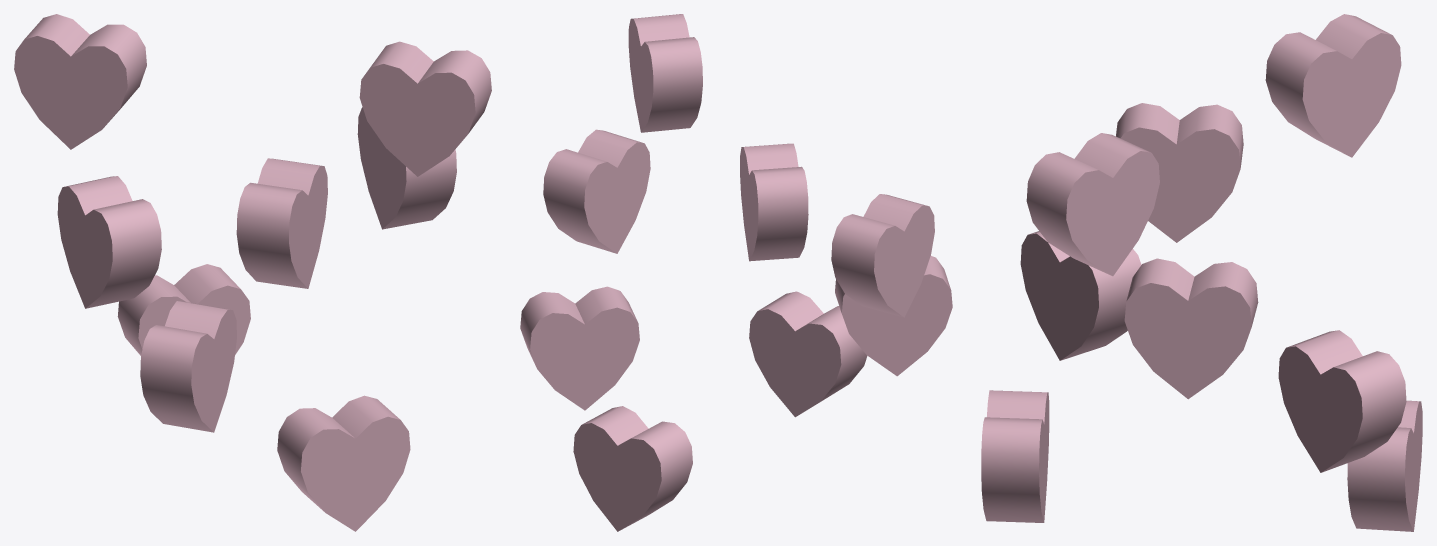
File: zon_diaryring_heart_raw.glb
3 views of the same model, side by side, from view 1: azimuth 30°, elevation 25°; view 2: azimuth 150°, elevation 25°; view 3: azimuth 270°, elevation 25° (orthographic). The views are drawn at different scales.
Parts seen in each view (by area): view 1: SM_zon_diaryring_heart_glow_vc_xm1_z0_raw; view 2: SM_zon_diaryring_heart_glow_vc_xm1_z0_raw; view 3: SM_zon_diaryring_heart_glow_vc_xm1_z0_raw.
Boxes of the visible parts, x1,y1,x2,y2 form: SM_zon_diaryring_heart_glow_vc_xm1_z0_raw: (14,14,491,531); SM_zon_diaryring_heart_glow_vc_xm1_z0_raw: (520,14,952,531); SM_zon_diaryring_heart_glow_vc_xm1_z0_raw: (981,14,1422,531).
Bounding box in the file's own units: 0.3773 × 0.4091 × 0.3802.
